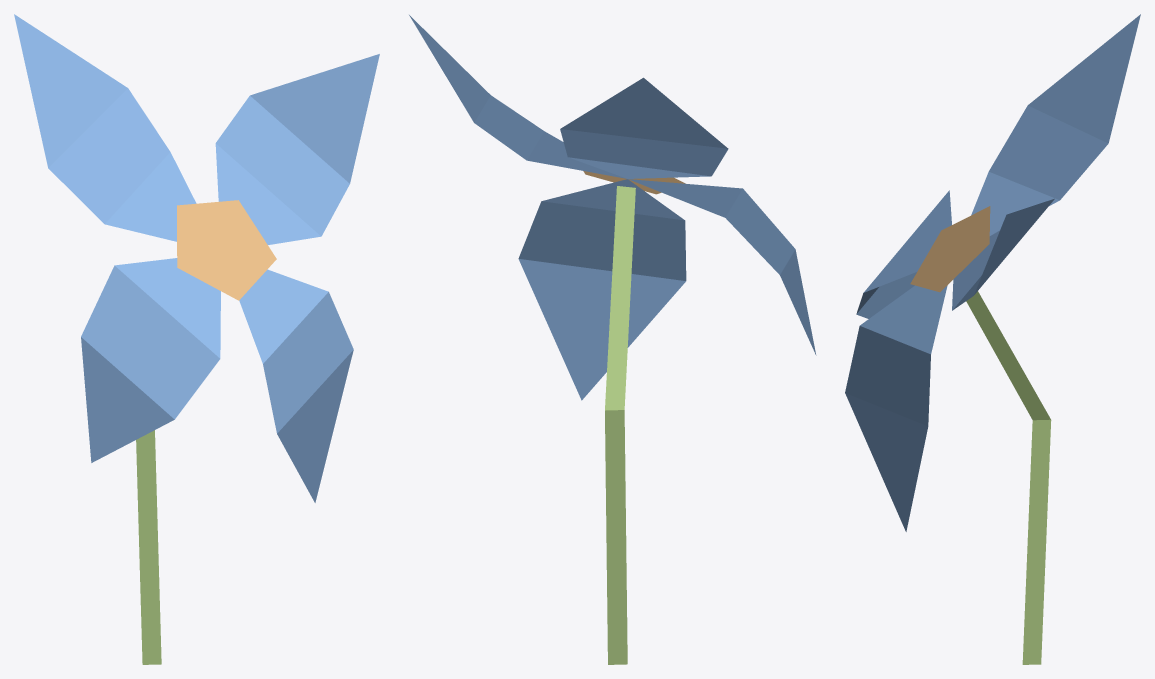
The model's file is Flower_a_OneS_06.fbx.
3 renders of one model, left to right at view 1: azimuth 30°, elevation 25°; view 2: azimuth 150°, elevation 25°; view 3: azimuth 270°, elevation 25°, orthographic. The views are drawn at different scales.
Visible parts, largest first — view 1: Flower_a_OneS_06; view 2: Flower_a_OneS_06; view 3: Flower_a_OneS_06.
Part boxes in pixels (x1,y1,x2,y2): Flower_a_OneS_06: [14, 14, 379, 664]; Flower_a_OneS_06: [409, 15, 816, 664]; Flower_a_OneS_06: [845, 14, 1140, 664].
Bounding box in the file's own units: 35.69 × 62.57 × 27.52.
